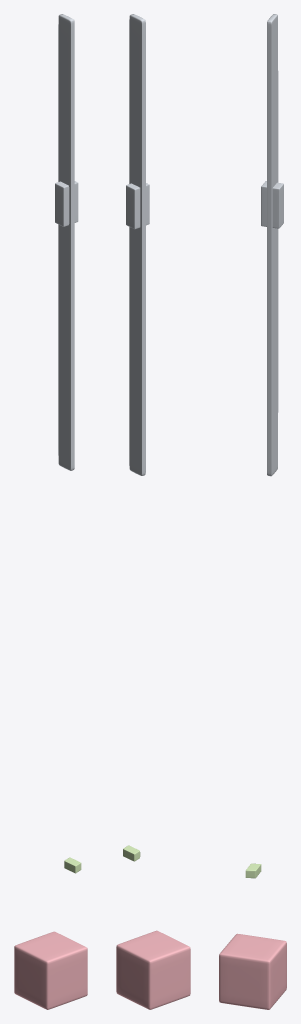
The model's file is PROP_Scooter_v1.glb.
3 renders of one model, left to right at view 1: azimuth 30°, elevation 25°; view 2: azimuth 210°, elevation 25°; view 3: azimuth 330°, elevation 25°, orthographic.
Visible parts, largest first — view 1: PROP_Scooter_v1; view 2: PROP_Scooter_v1; view 3: PROP_Scooter_v1.
Boxes of the visible parts, bbox=[...] form: PROP_Scooter_v1: bbox=[14, 14, 87, 1009]; PROP_Scooter_v1: bbox=[116, 14, 190, 1009]; PROP_Scooter_v1: bbox=[219, 14, 286, 1009].
Size of the model in its own units: 1.16 by 20.08 by 1.16.
